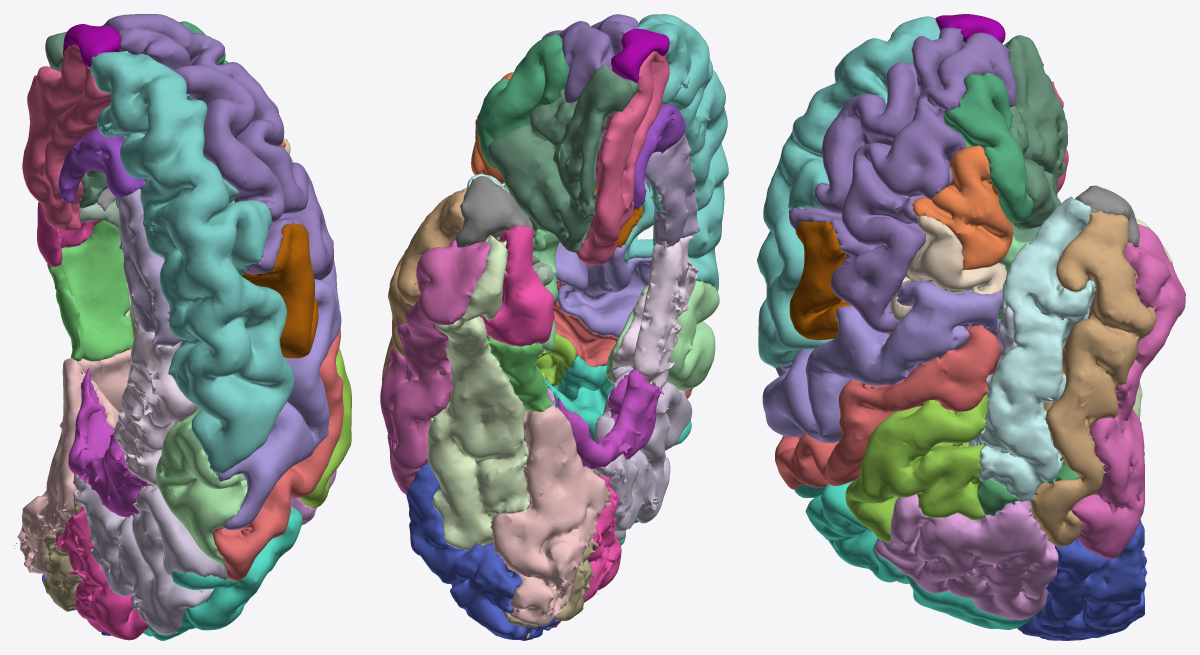
Rendered from cortex-right.glb.
3 views of the same model, side by side, from view 1: azimuth 30°, elevation 25°; view 2: azimuth 150°, elevation 25°; view 3: azimuth 270°, elevation 25° (orthographic). The views are drawn at different scales.
Visible parts, largest first — view 1: spl-2028, spl-2027, spl-2025, spl-2024, spl-2014, spl-2016, spl-2013, spl-2023, spl-2017, spl-2022, spl-2010, spl-2003 (+10 smaller); view 2: spl-2007, spl-2013, spl-2012, spl-2009, spl-2028, spl-2011, spl-2014, spl-2025, spl-2023, spl-2024, spl-2019, spl-2006 (+16 smaller); view 3: spl-2027, spl-2015, spl-2030, spl-2024, spl-2028, spl-2008, spl-2031, spl-2009, spl-2022, spl-2011, spl-2012, spl-2020 (+8 smaller).
Boxes of the visible parts, x1,y1,x2,y2 form: spl-2028: (89, 51, 294, 475); spl-2027: (102, 14, 333, 280); spl-2025: (73, 474, 228, 635); spl-2024: (218, 260, 341, 529); spl-2014: (22, 44, 123, 230); spl-2016: (47, 220, 134, 361); spl-2013: (14, 349, 131, 576); spl-2023: (113, 313, 198, 485); spl-2017: (156, 407, 247, 571); spl-2022: (212, 328, 343, 581); spl-2010: (68, 367, 152, 517); spl-2003: (242, 223, 318, 358); spl-2007: (427, 235, 529, 550); spl-2013: (490, 405, 610, 625); spl-2012: (486, 65, 638, 252); spl-2009: (380, 236, 490, 494); spl-2028: (624, 14, 728, 291); spl-2011: (406, 462, 558, 640); spl-2014: (576, 51, 669, 265); spl-2025: (592, 366, 692, 541); spl-2023: (612, 235, 698, 387); spl-2024: (555, 242, 651, 337); spl-2019: (477, 34, 569, 168); spl-2006: (480, 225, 554, 346); spl-2027: (788, 27, 1016, 332); spl-2015: (1029, 210, 1156, 546); spl-2030: (968, 196, 1095, 501); spl-2024: (762, 280, 1002, 442); spl-2028: (757, 16, 940, 367); spl-2008: (874, 494, 1058, 619); spl-2031: (845, 394, 987, 542); spl-2009: (1071, 224, 1185, 559); spl-2022: (775, 325, 1000, 489); spl-2011: (1017, 519, 1147, 640); spl-2012: (1004, 35, 1067, 242); spl-2020: (911, 145, 1013, 270).
Bounding box in the file's own units: 71.33 × 176 × 115.
